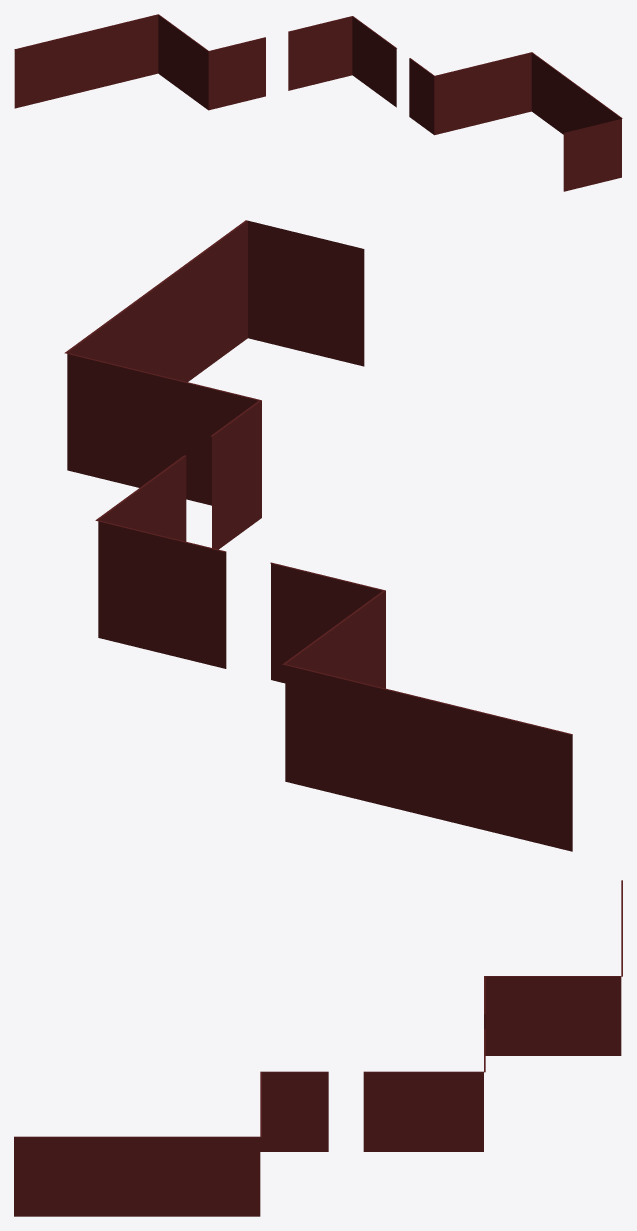
File: p55-wall-angle-front-base.fbx
3 views of the same model, one above another, from view 1: azimuth 30°, elevation 25°; view 2: azimuth 150°, elevation 25°; view 3: azimuth 270°, elevation 25° (orthographic). The views are drawn at different scales.
Parts seen in each view (by area): view 1: p55-wall-angle-front-base; view 2: p55-wall-angle-front-base; view 3: p55-wall-angle-front-base.
Boxes of the visible parts, box(x1,y1,x2,y2) form: p55-wall-angle-front-base: box(14, 14, 622, 191); p55-wall-angle-front-base: box(64, 220, 572, 851); p55-wall-angle-front-base: box(14, 880, 622, 1216).
Size of the model in its own units: 1923 by 280 by 1925.
